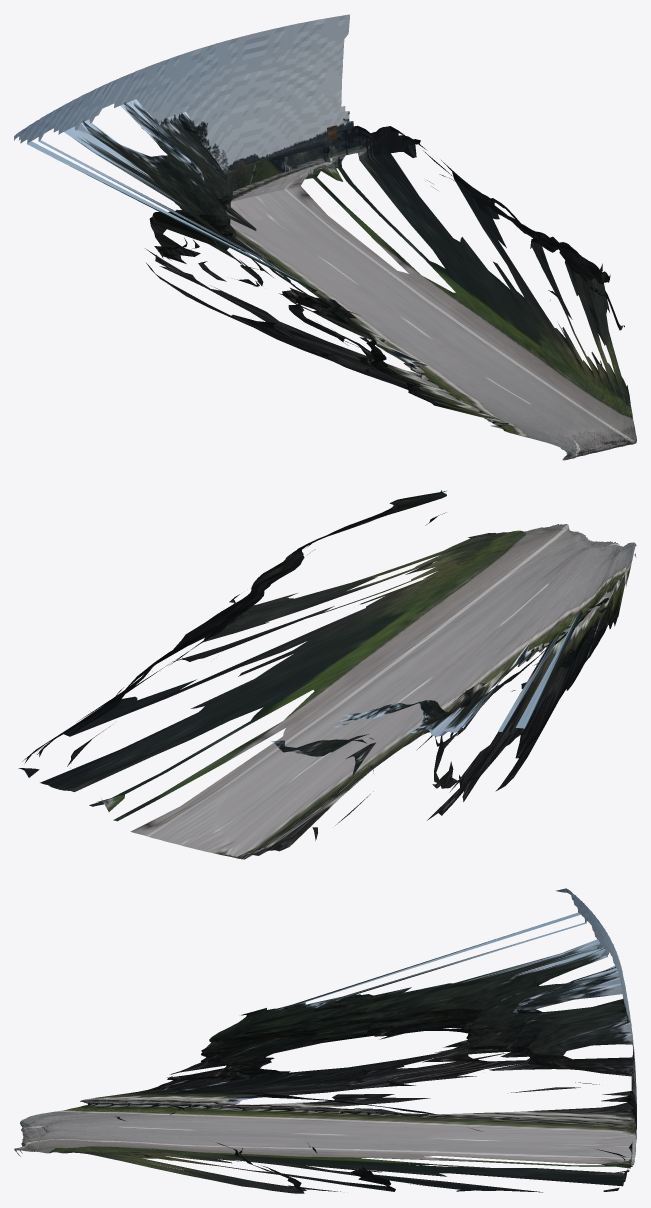
The picture shows the model from 3 angles, top to bottom: view 1: azimuth 30°, elevation 25°; view 2: azimuth 150°, elevation 25°; view 3: azimuth 270°, elevation 25°; orthographic projection. The views are drawn at different scales.
Visible parts, largest first — view 1: defaultobject; view 2: defaultobject; view 3: defaultobject.
Part boxes in pixels (x1,y1,x2,y2): defaultobject: (14, 14, 636, 460); defaultobject: (18, 490, 636, 859); defaultobject: (14, 888, 636, 1193).
Size of the model in its own units: 31.95 by 12.04 by 44.68.
1 material, 1 textured.
